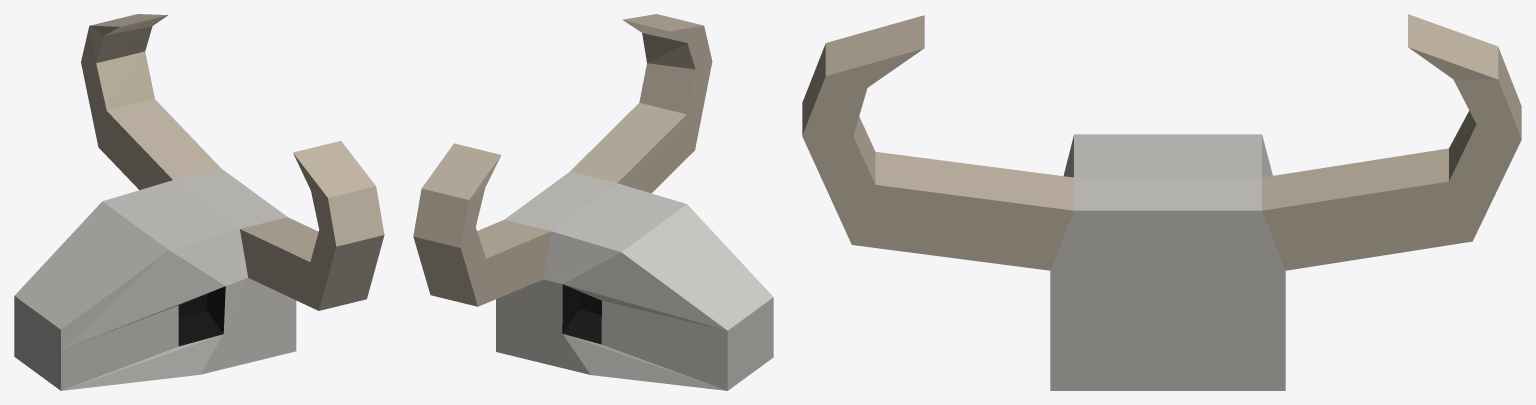
The model's file is bull skull.fbx.
The picture shows the model from 3 angles, left to right: view 1: azimuth 30°, elevation 25°; view 2: azimuth 150°, elevation 25°; view 3: azimuth 270°, elevation 25°; orthographic projection. The views are drawn at different scales.
Parts seen in each view (by area): view 1: pCube77; view 2: pCube77; view 3: pCube77.
Part boxes in pixels (<box>): pCube77: <box>14,14,384,390</box>; pCube77: <box>413,14,773,390</box>; pCube77: <box>802,14,1521,390</box>.
Bounding box in the file's own units: 3.67 × 3.95 × 7.49.
